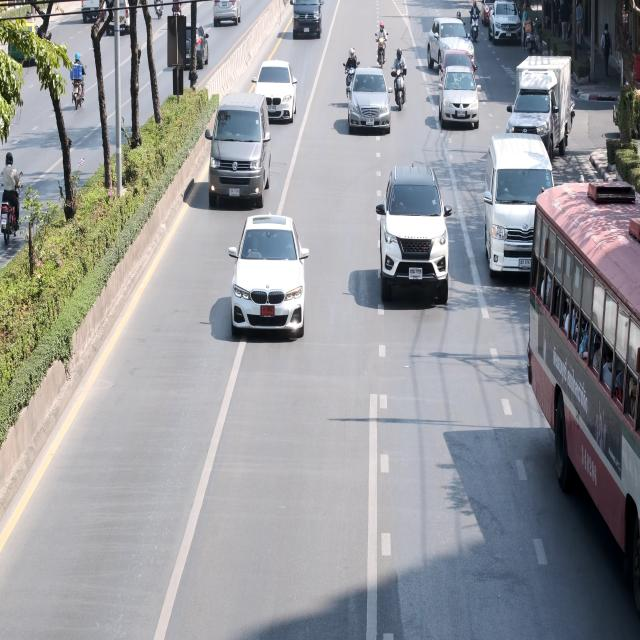bus: (526, 163, 640, 640)
cars: (372, 160, 456, 331), (480, 126, 559, 296), (226, 200, 312, 346), (204, 89, 274, 219), (504, 47, 572, 164), (246, 60, 308, 132), (346, 64, 394, 146), (440, 60, 482, 149), (428, 12, 478, 82), (168, 11, 213, 88), (283, 0, 338, 47), (438, 49, 479, 107), (490, 0, 522, 53), (102, 0, 132, 40), (213, 0, 246, 31), (482, 0, 513, 28), (78, 0, 106, 29)
motorcycle: (0, 150, 36, 253), (390, 44, 414, 126), (66, 45, 94, 115), (520, 2, 542, 62), (344, 42, 362, 114), (372, 15, 392, 70), (470, 0, 482, 45)
